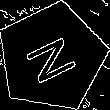N_NE: (20, 28, 84, 87)
